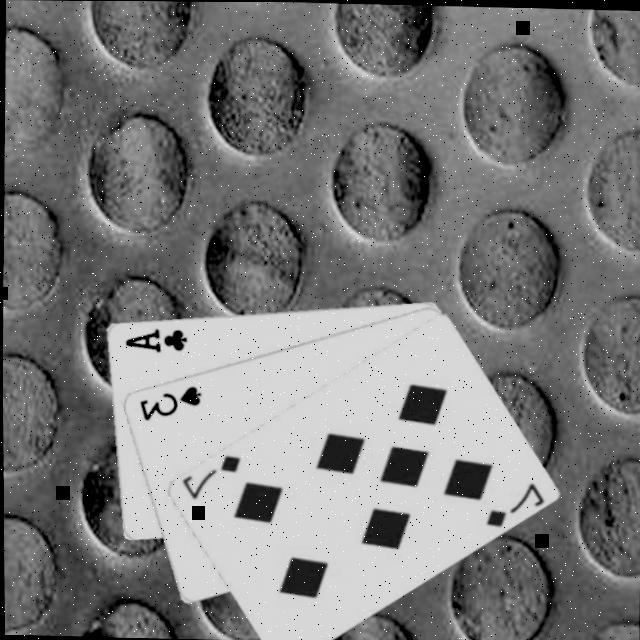3S: (136, 380, 205, 422)
7D: (180, 448, 245, 502), (482, 476, 546, 529)
AC: (121, 322, 190, 353)
